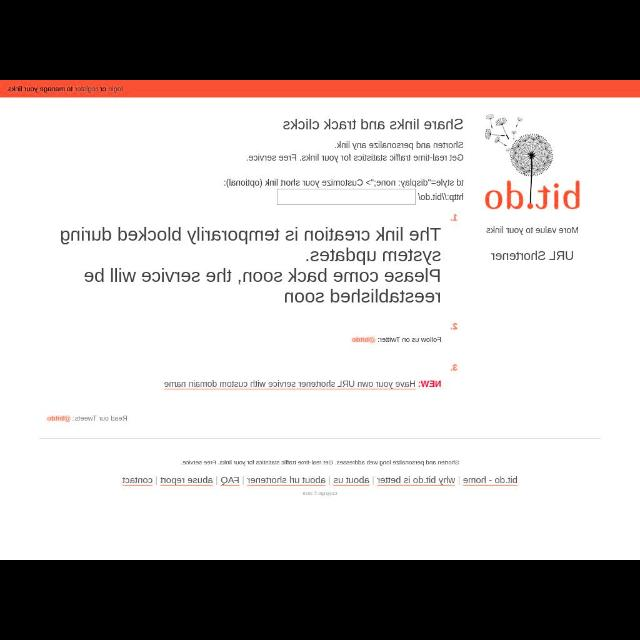backgroundimage: (482, 114, 580, 208)
input: (277, 188, 415, 205)
text: (60, 225, 440, 302), (246, 142, 464, 164), (164, 379, 442, 389), (285, 117, 465, 131), (180, 459, 460, 468), (224, 178, 466, 188), (485, 224, 579, 236), (490, 250, 574, 262), (7, 84, 125, 92), (351, 336, 441, 346), (377, 476, 455, 486), (45, 414, 128, 422), (246, 476, 324, 484), (417, 192, 465, 204), (464, 476, 518, 486), (160, 476, 214, 486), (332, 476, 370, 484), (302, 490, 338, 498), (120, 476, 152, 484), (222, 475, 240, 485)
